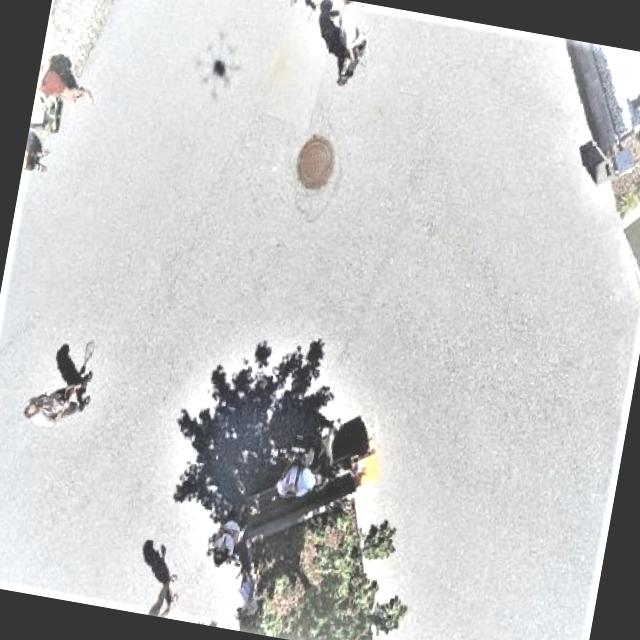Person: (305, 0, 377, 93), (0, 372, 101, 435)
